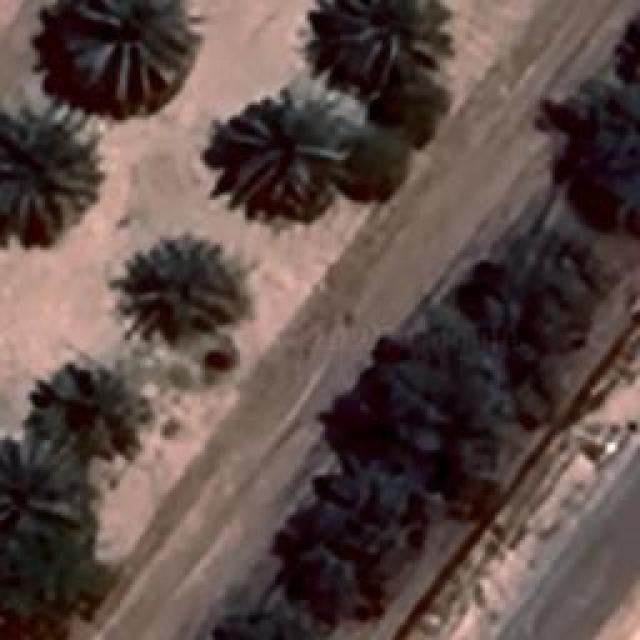PalmTree: (110, 91, 617, 157), (46, 136, 184, 286), (212, 82, 352, 220), (0, 102, 95, 240), (67, 0, 185, 105), (332, 0, 450, 80), (42, 358, 136, 454), (0, 430, 80, 542)
